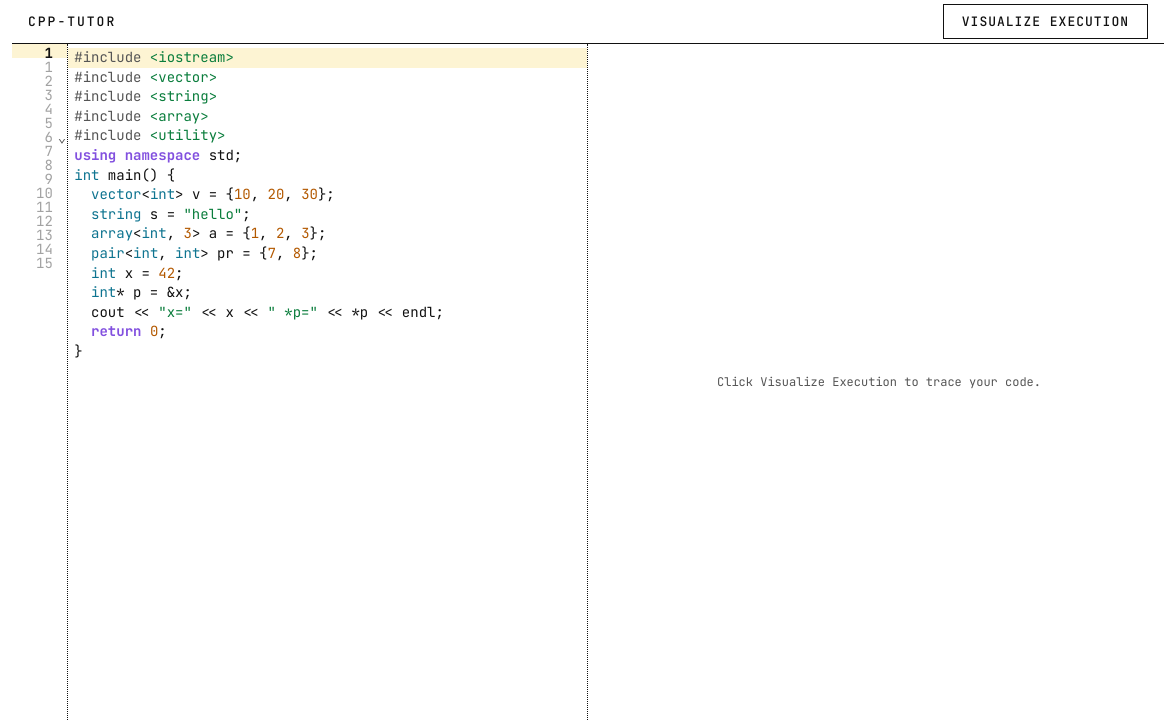
Test case: App shell › shows Stop and hides Visualize after a successful visualize
The width and height of the screenshot is (1164, 720).
Click the button "Visualize Execution".
click(1045, 22)  # box [943,4,1148,39]
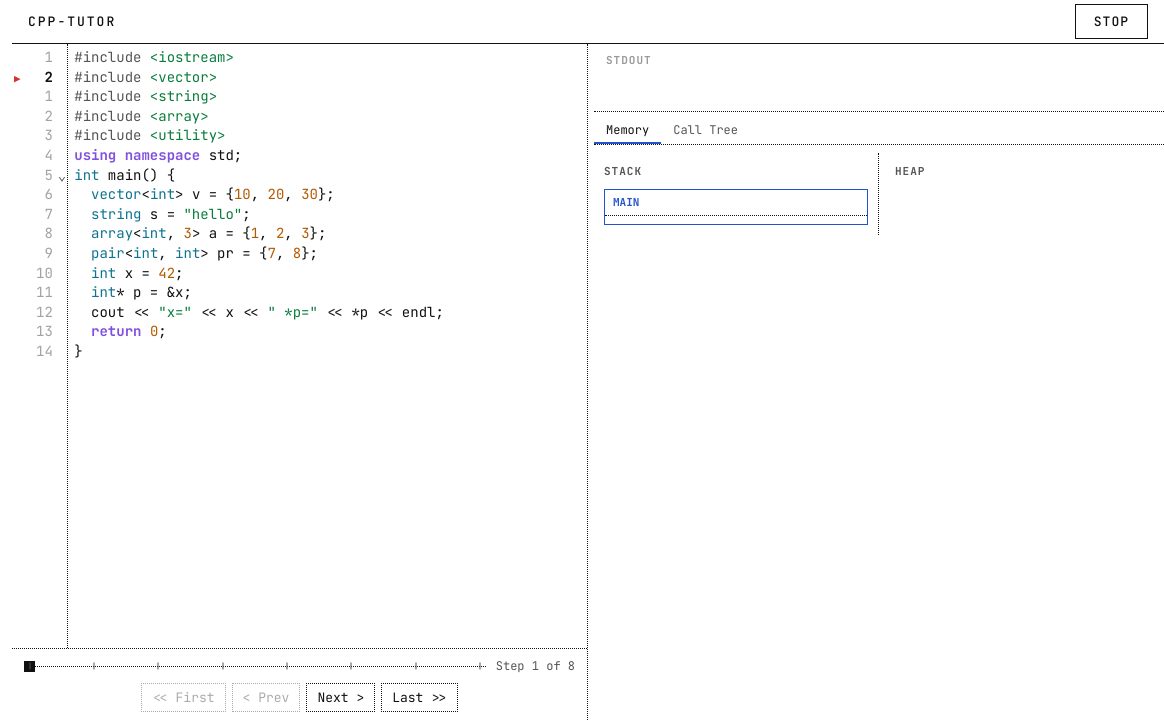
Now the button "Stop" is shown, box [1075,4,1148,39]
Now the button "Visualize" is gone
